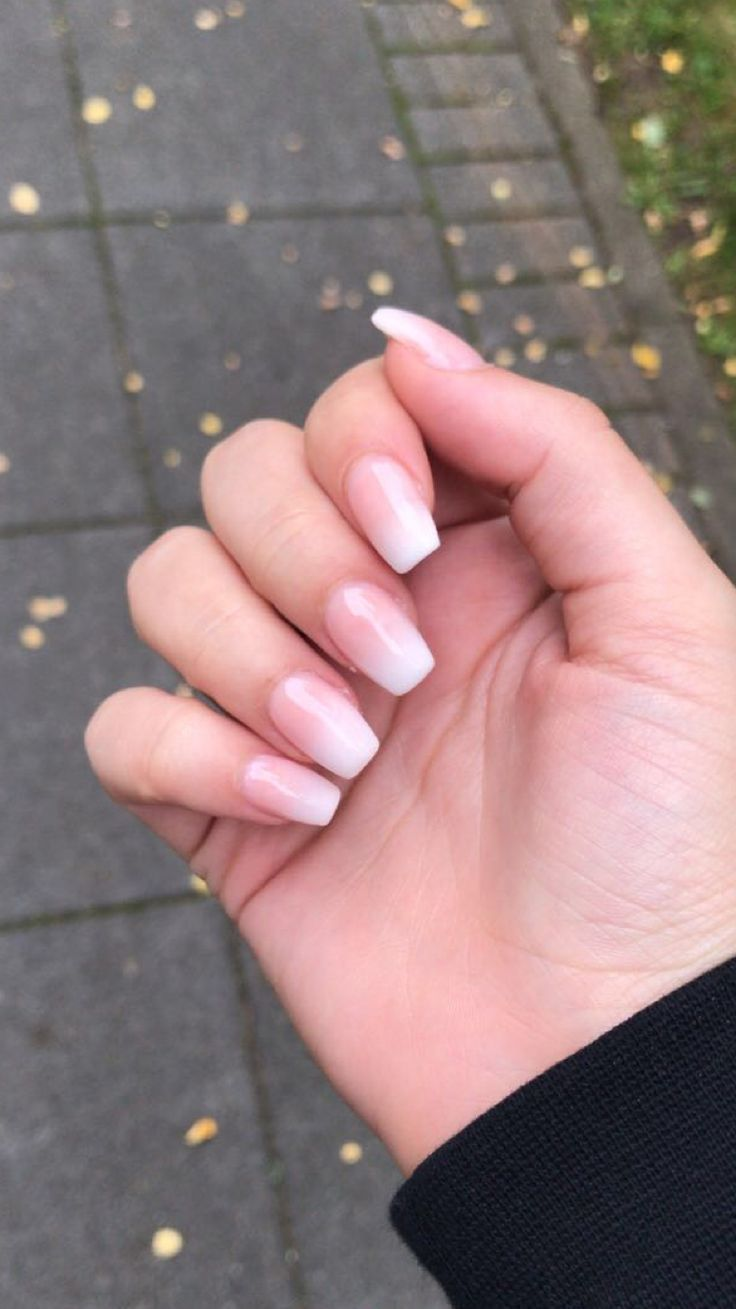nails: (309, 574, 438, 699), (334, 444, 449, 584), (259, 663, 387, 785), (224, 745, 348, 832), (367, 297, 490, 381)
